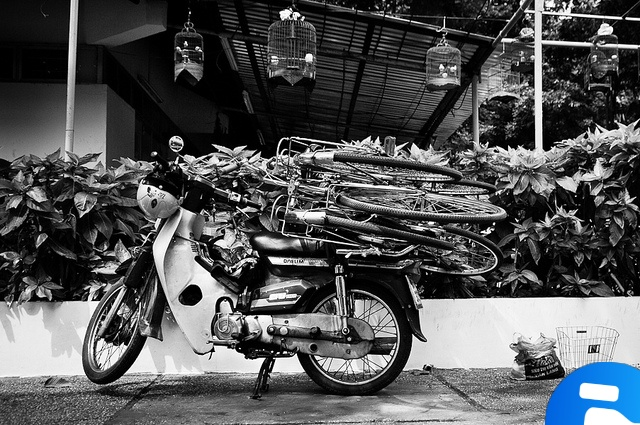like: (545, 362, 640, 425)
